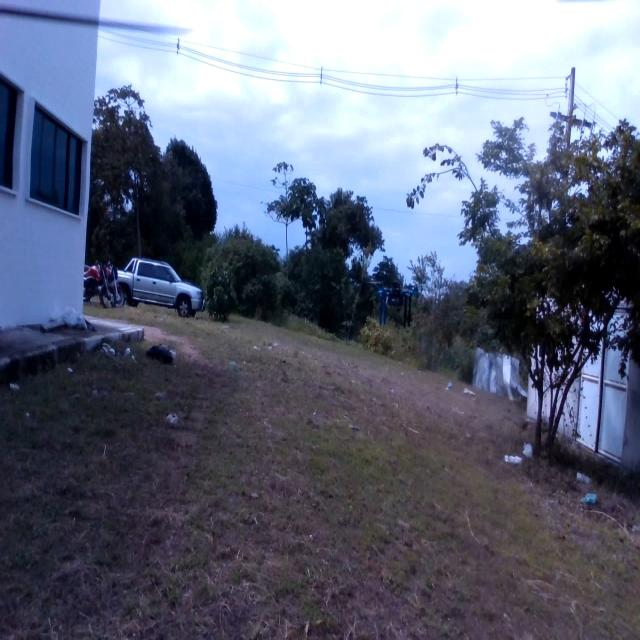-uav-: (362, 266, 424, 341)
